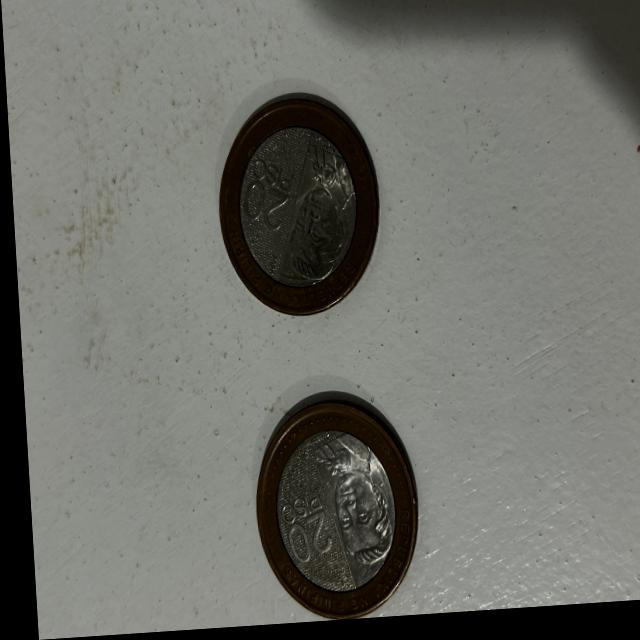20_New_Front: (232, 151, 302, 240), (272, 481, 321, 577)
